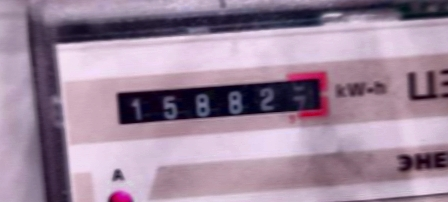1: (129, 93, 144, 119)
2: (258, 83, 275, 108)
5: (161, 90, 178, 117)
7: (292, 89, 307, 109)
8: (194, 89, 211, 116), (226, 86, 243, 112)
screen: (101, 60, 338, 138)
